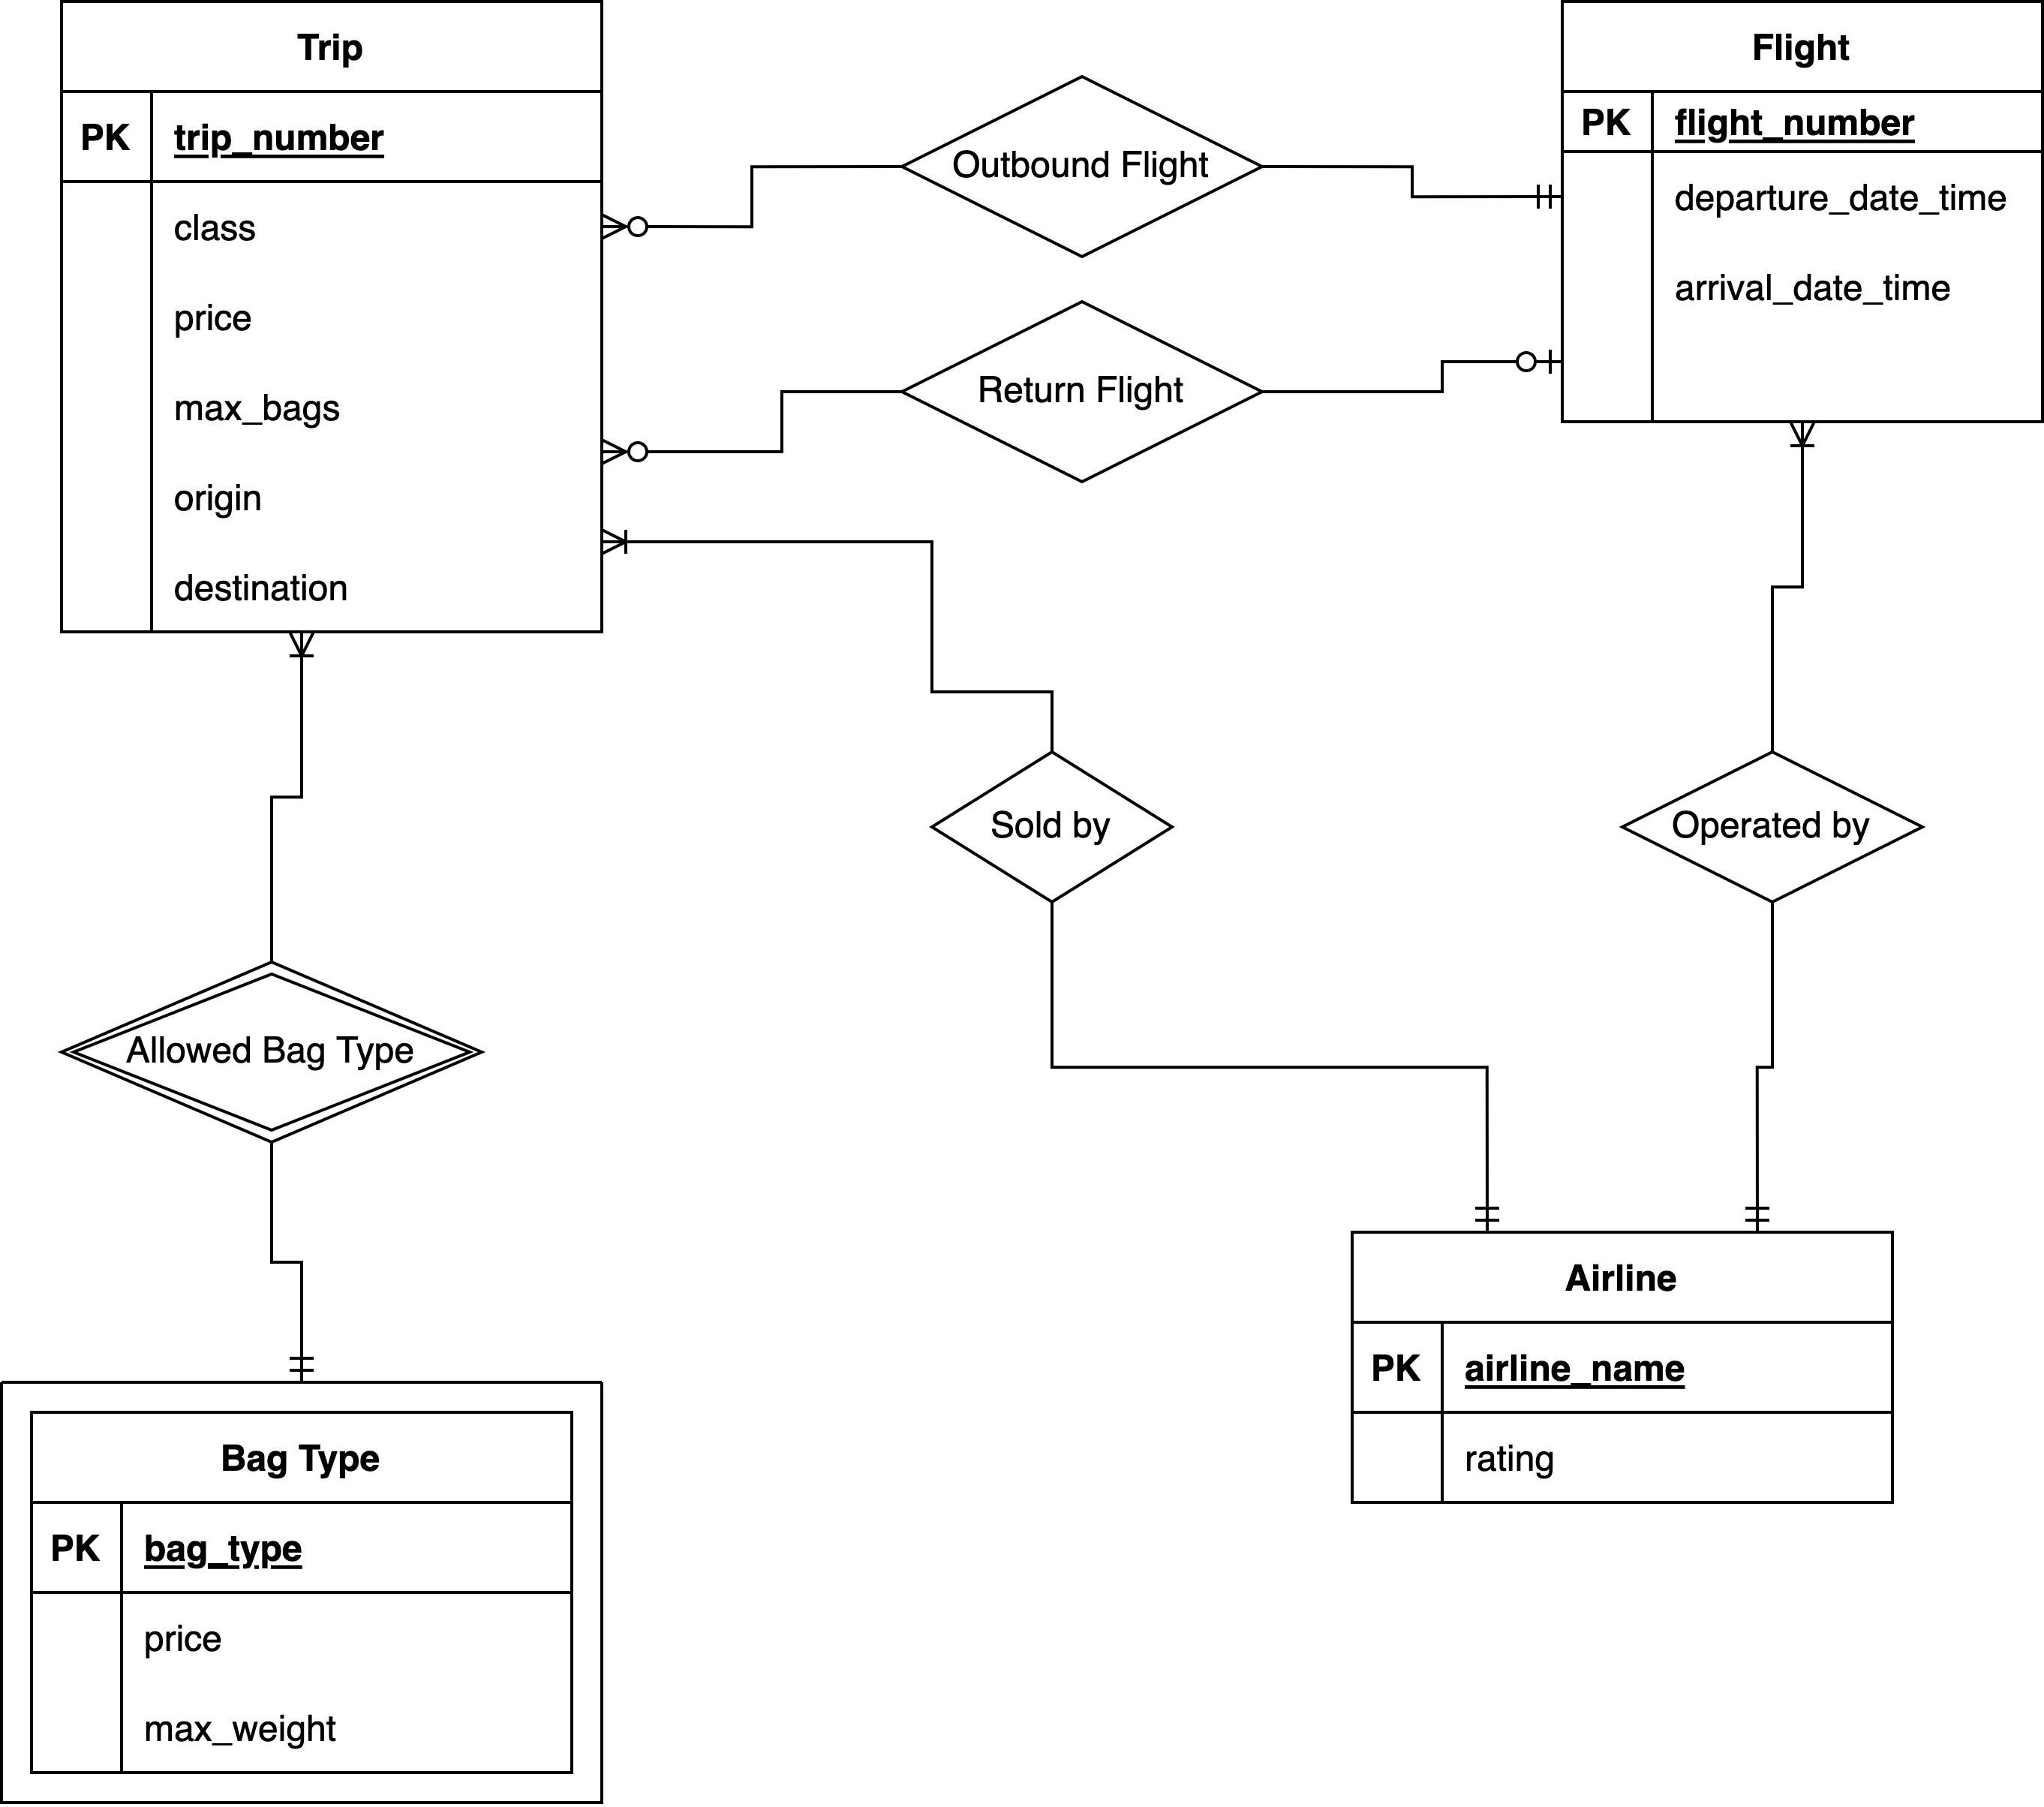ident_rel: (59, 963, 487, 1144)
many: (603, 431, 734, 467), (603, 527, 727, 562), (603, 206, 706, 246), (1786, 420, 1821, 520), (288, 635, 317, 703)
one: (1446, 183, 1559, 218), (1455, 345, 1561, 377), (1472, 1162, 1507, 1240), (1742, 1158, 1772, 1240), (290, 1310, 319, 1385)
rel: (903, 73, 1259, 258), (902, 305, 1257, 490), (1624, 757, 1927, 902), (931, 755, 1177, 898)
